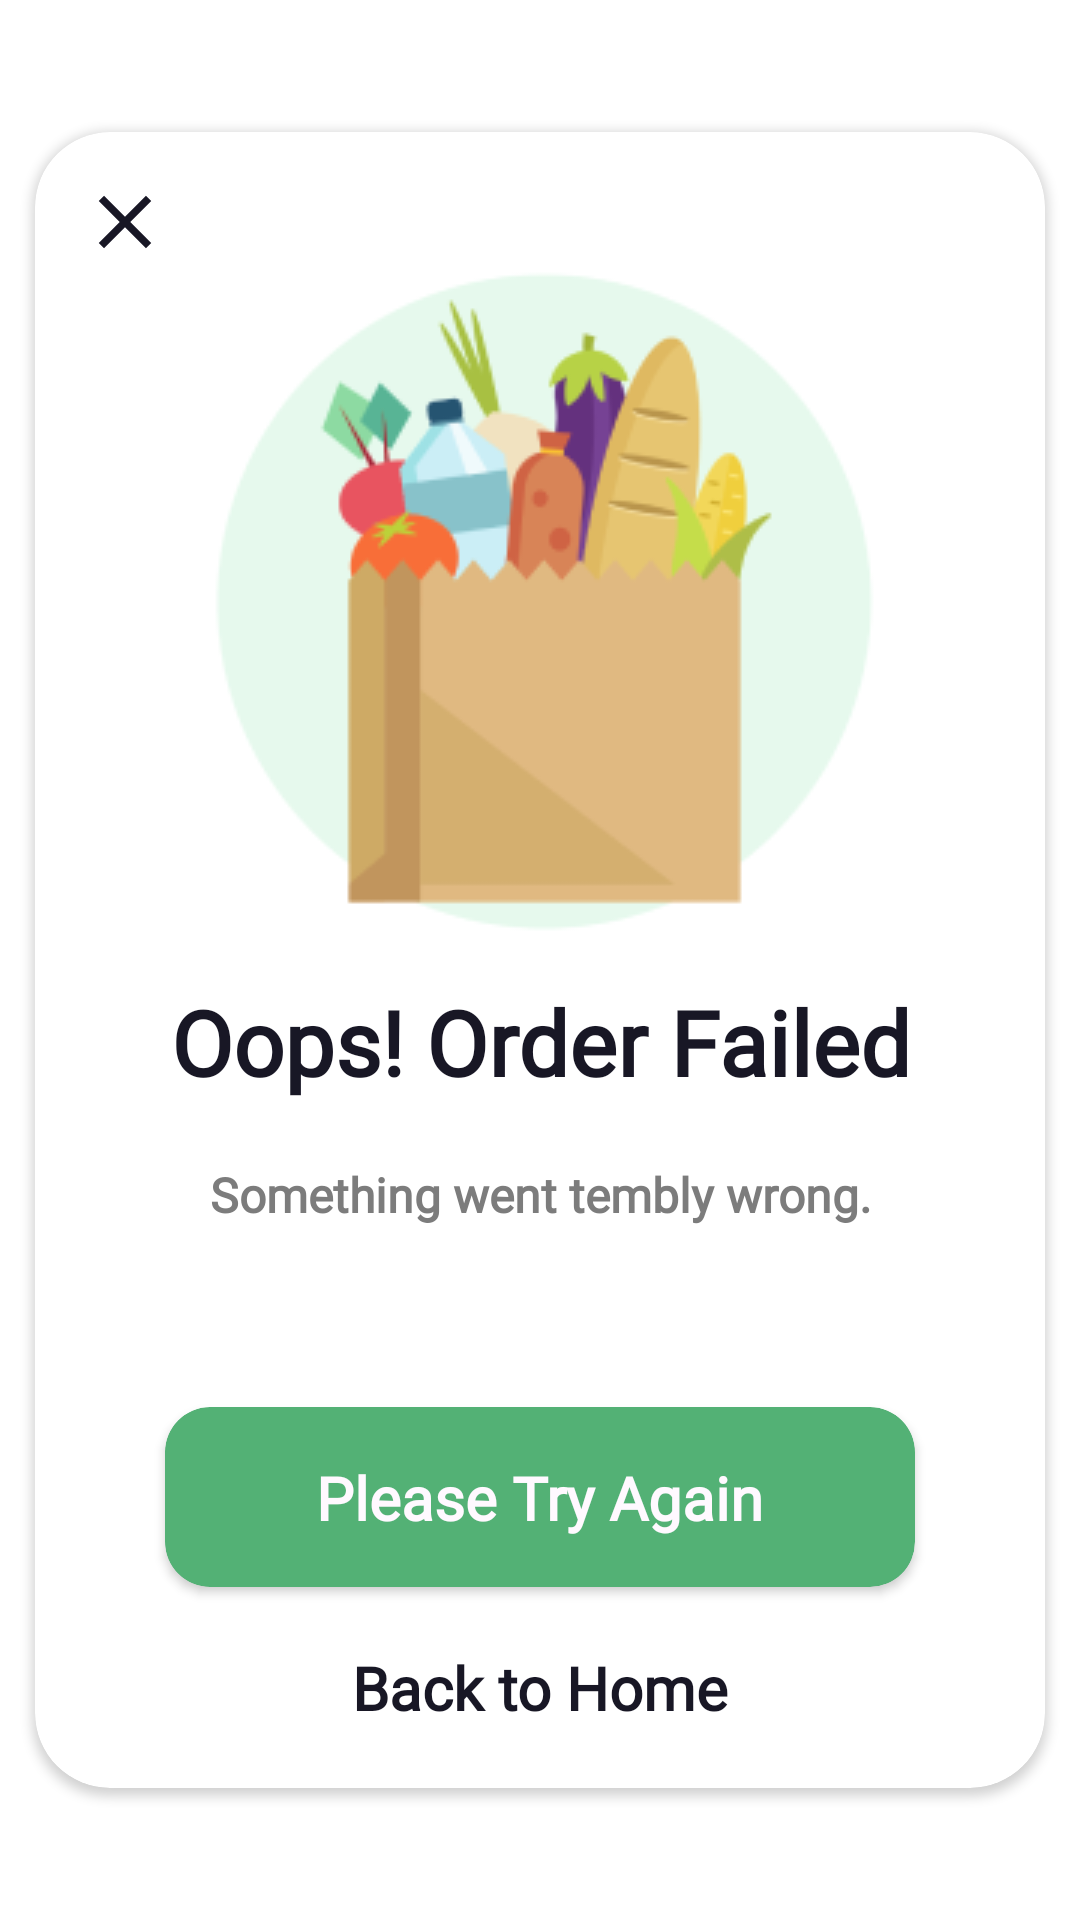

Icons on this 1080×1920 Android screen, each with its box as (x1, y1, x2, y2):
close: (99, 196, 151, 248)
